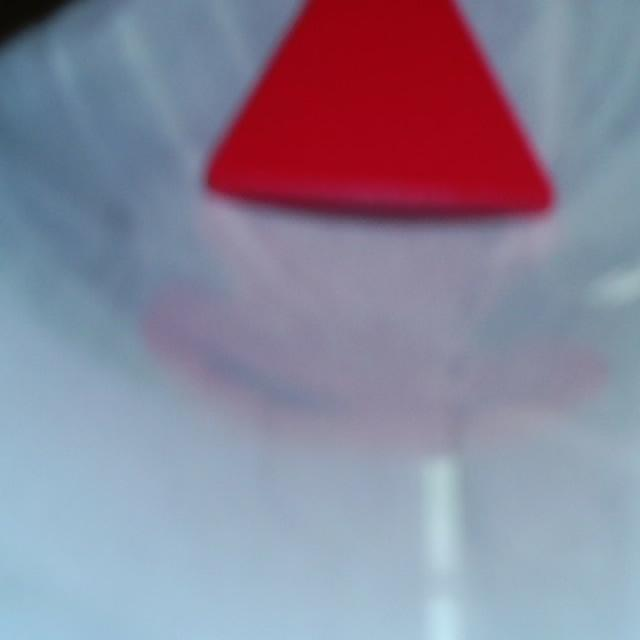triangle: (208, 0, 552, 211)
